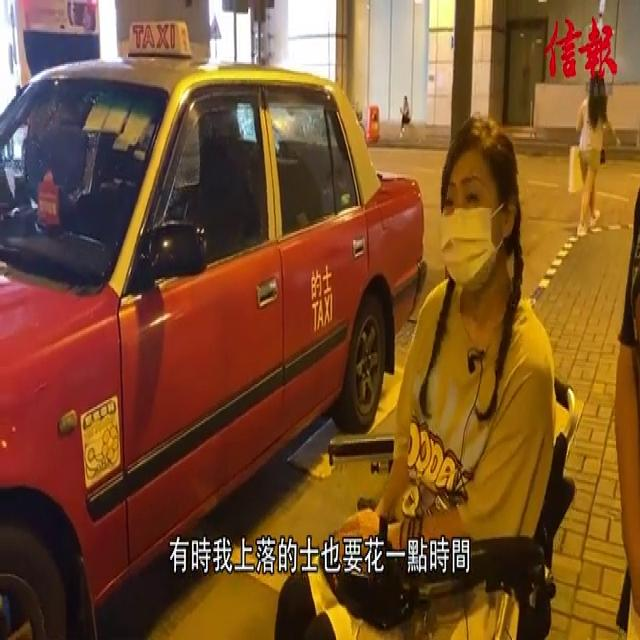wheelchairs: (320, 349, 583, 640)
